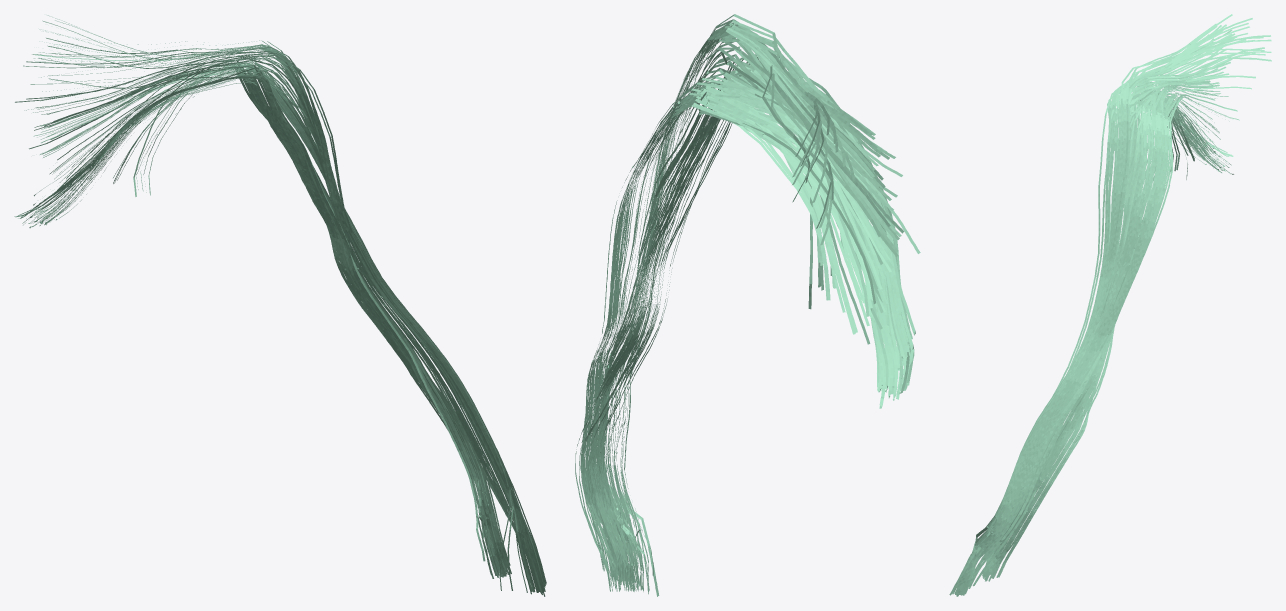
The model's file is CBT_L.glb.
The picture shows the model from 3 angles, left to right: view 1: azimuth 30°, elevation 25°; view 2: azimuth 150°, elevation 25°; view 3: azimuth 270°, elevation 25°; orthographic projection. The views are drawn at different scales.
Parts seen in each view (by area): view 1: tracts; view 2: tracts; view 3: tracts.
Boxes of the visible parts, x1=… form: tracts: x1=14, y1=15, x2=546, y2=596; tracts: x1=575, y1=14, x2=920, y2=596; tracts: x1=949, y1=14, x2=1271, y2=596.
Bounding box in the file's own units: 60.9 × 83.1 × 54.41.
